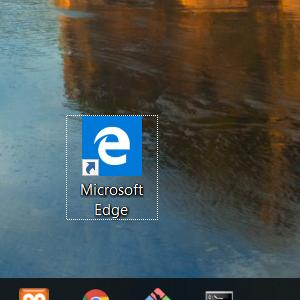edge: (81, 116, 142, 177)
